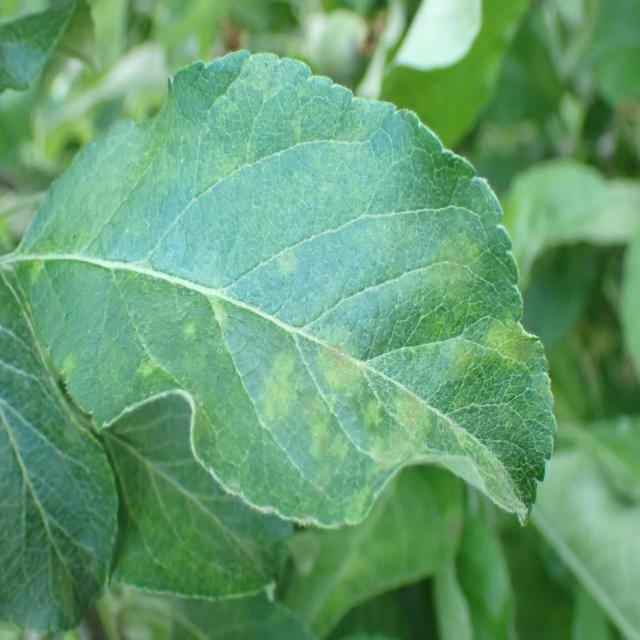scab: (46, 60, 532, 525)
